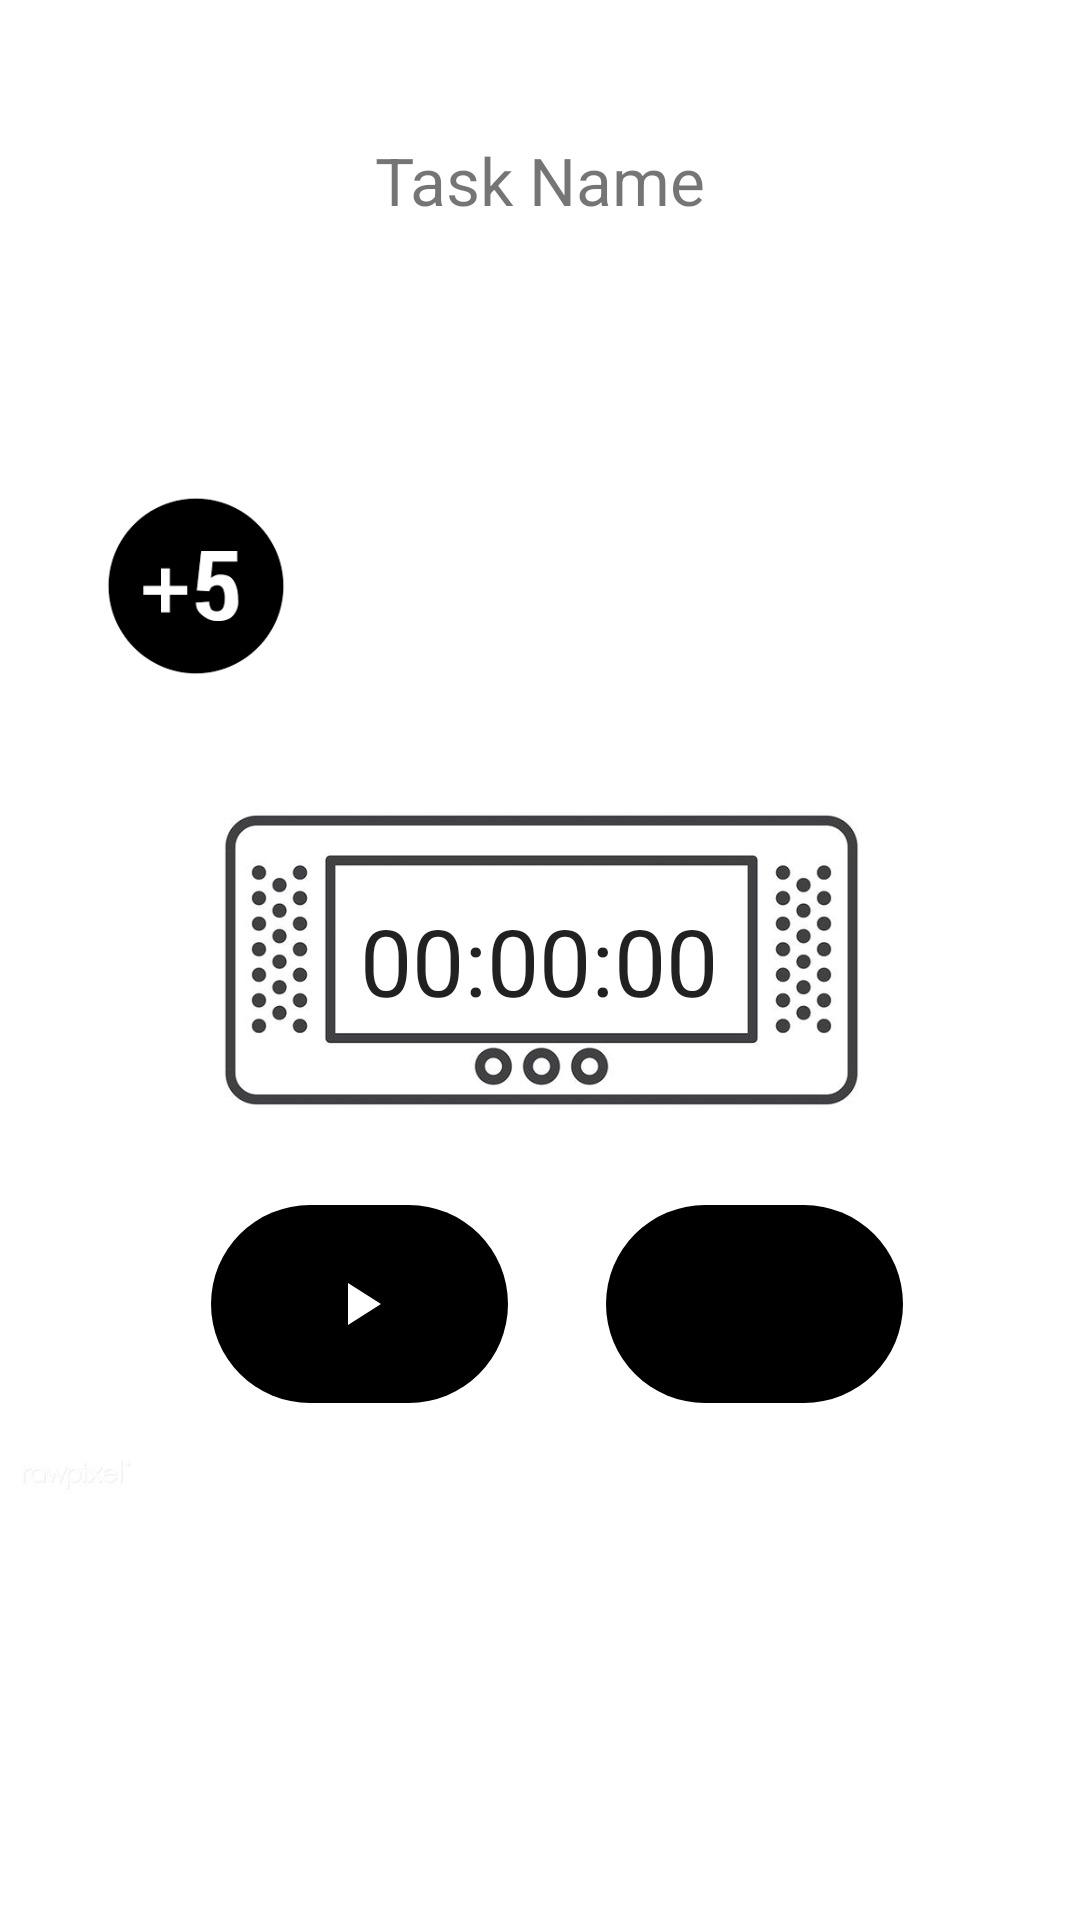

Icons on this 1080 x 1920 Android screen, each with the point to tap as point (x, y):
play: point (359, 1304)
